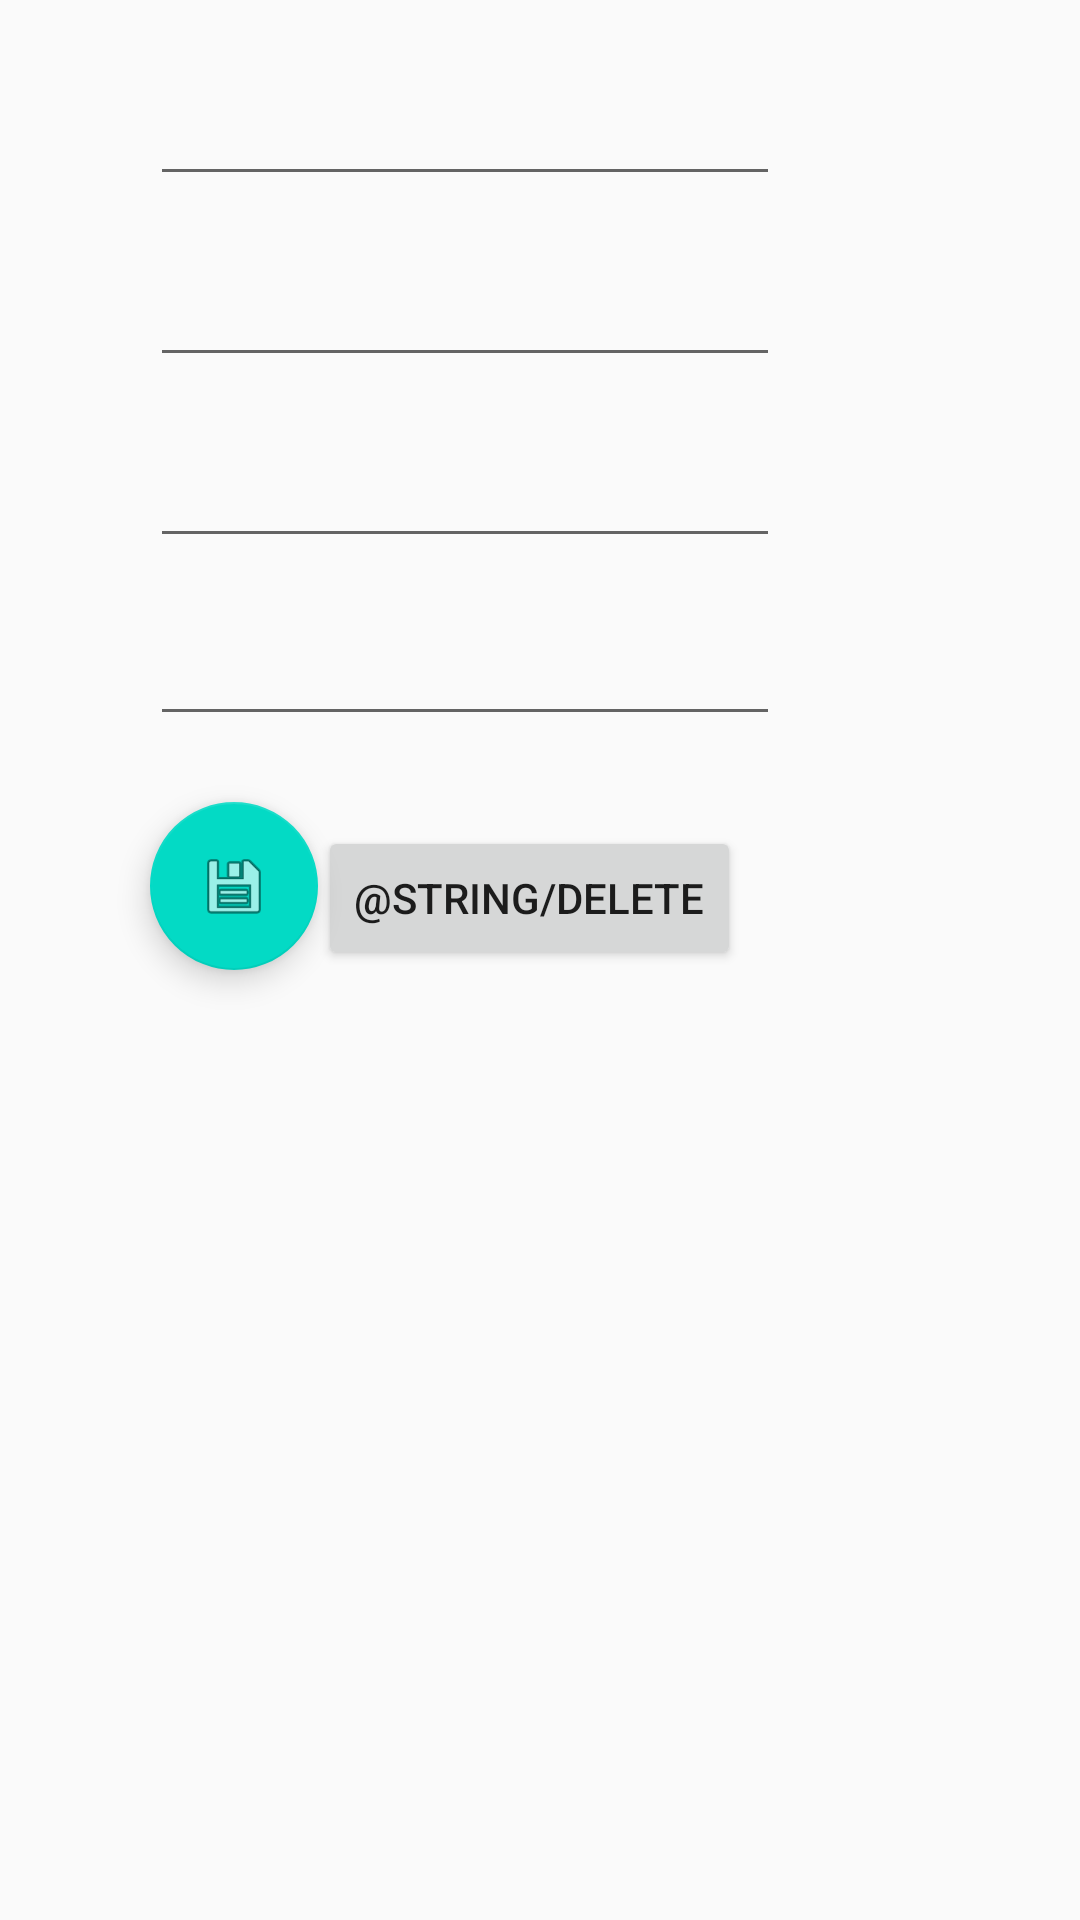

Icon click points for this 1080*1920 phone screenshot, format (x,y):
save: (234,886)
